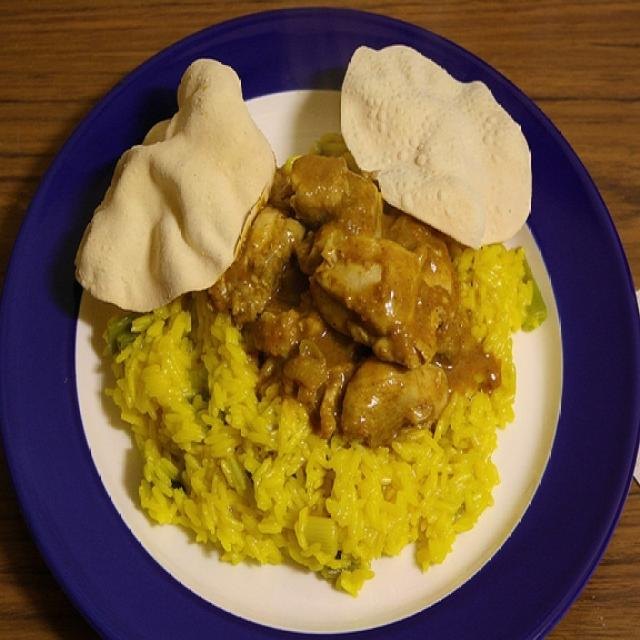米饭主食: (18, 11, 630, 610)
